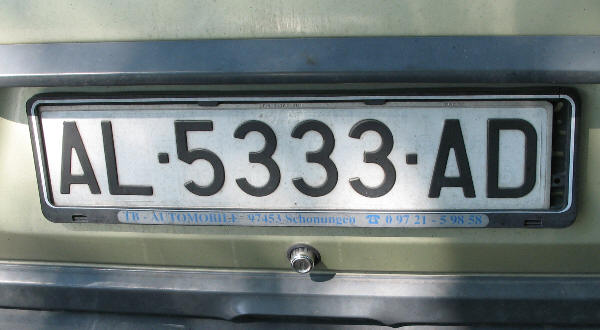license_plate: (34, 100, 552, 212)
